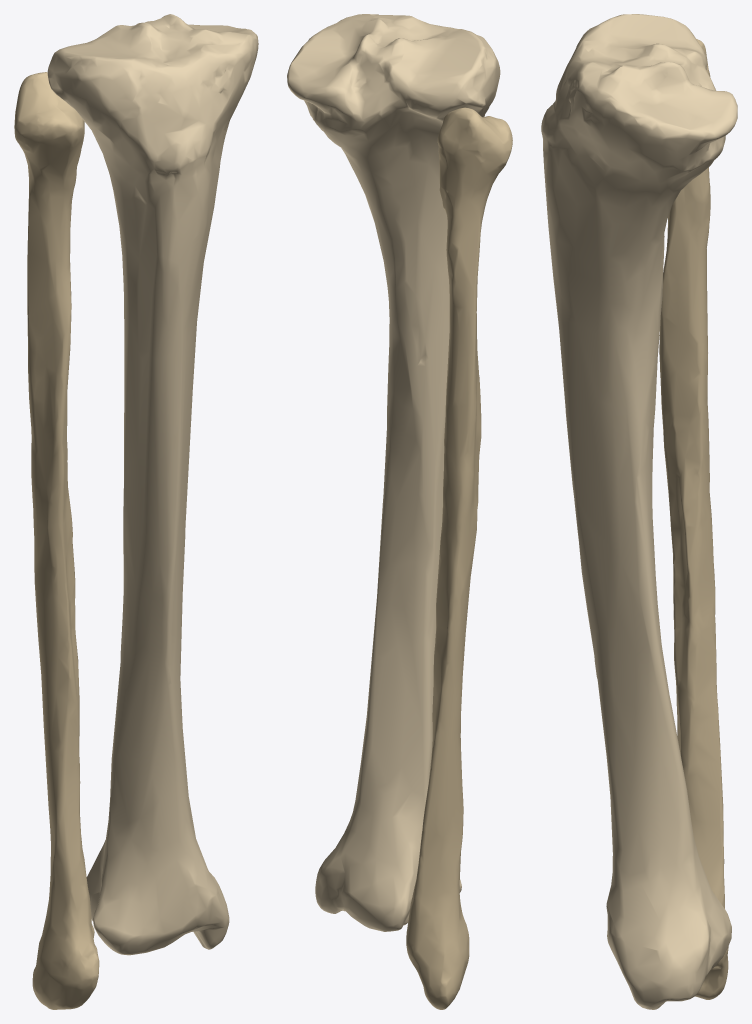
Rendered from r-shin.glb.
3 views of the same model, side by side, from view 1: azimuth 30°, elevation 25°; view 2: azimuth 150°, elevation 25°; view 3: azimuth 270°, elevation 25° (orthographic). The views are drawn at different scales.
Parts seen in each view (by area): view 1: right-tibia, right-fibula; view 2: right-tibia, right-fibula; view 3: right-tibia, right-fibula.
Part boxes in pixels (x1,y1,x2,y2): right-tibia: (47, 14, 258, 955); right-fibula: (14, 72, 99, 1009); right-tibia: (287, 14, 500, 931); right-fibula: (406, 107, 512, 1009); right-tibia: (541, 14, 737, 1009); right-fibula: (659, 39, 728, 999).
Bounding box in the file's own units: 0.2189 × 0.9146 × 0.1647.
